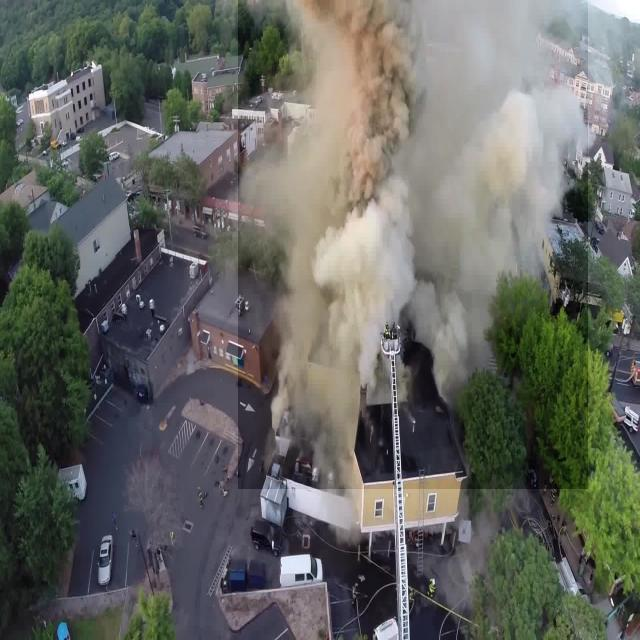Smoke: (238, 0, 588, 489)
